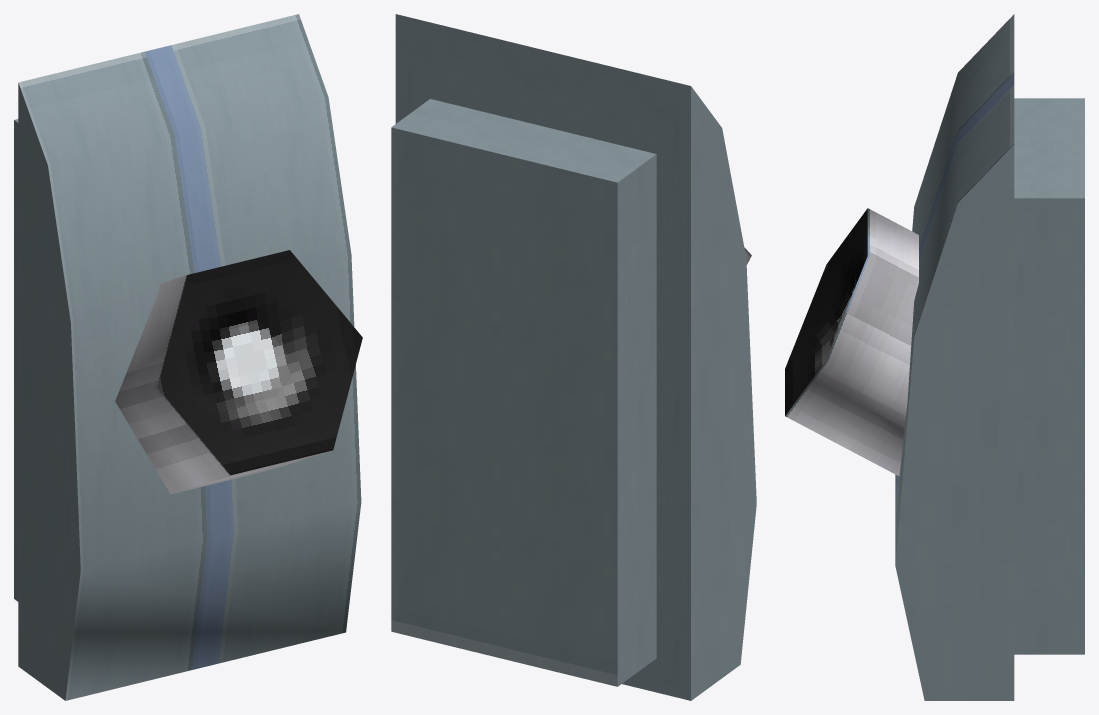
Rendered from eyescanner.fbx.
3 views of the same model, side by side, from view 1: azimuth 30°, elevation 25°; view 2: azimuth 150°, elevation 25°; view 3: azimuth 270°, elevation 25° (orthographic). The views are drawn at different scales.
Parts seen in each view (by area): view 1: base, cylinder, lens_PASS1; view 2: base; view 3: base, cylinder.
Boxes of the visible parts, x1,y1,x2,y2 form: base: [14, 14, 361, 700]; cylinder: [115, 250, 362, 494]; lens_PASS1: [212, 322, 287, 405]; base: [391, 14, 756, 700]; base: [895, 14, 1084, 700]; cylinder: [785, 208, 918, 476].
Bounding box in the file's own units: 0.6778 × 1.35 × 0.6581.
